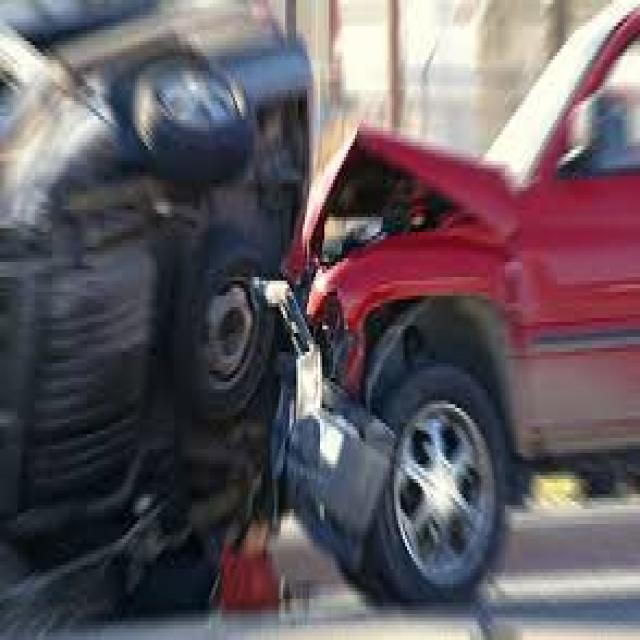accident: (82, 32, 528, 585)
